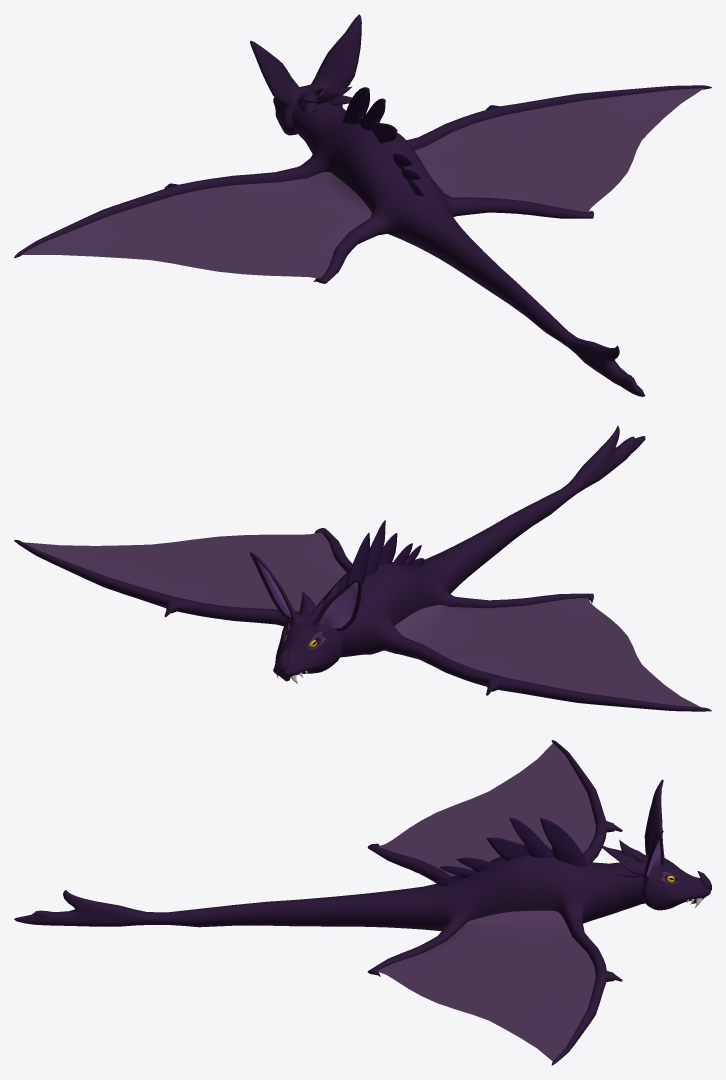
File: Monster1-2.fbx
3 renders of one model, top to bottom at view 1: azimuth 30°, elevation 25°; view 2: azimuth 150°, elevation 25°; view 3: azimuth 270°, elevation 25°, orthographic. The views are drawn at different scales.
Parts seen in each view (by area): view 1: Plane.013; view 2: Plane.013; view 3: Plane.013.
Boxes of the visible parts, box(x1,y1,x2,y2) form: Plane.013: box(14, 14, 711, 396); Plane.013: box(14, 425, 711, 711); Plane.013: box(14, 740, 711, 1065).
Bounding box in the file's own units: 90.17 × 15.95 × 81.82.
